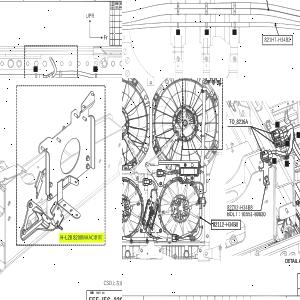PartNumber: (212, 221, 239, 228), (264, 37, 291, 43), (227, 204, 253, 210), (241, 211, 267, 217)
